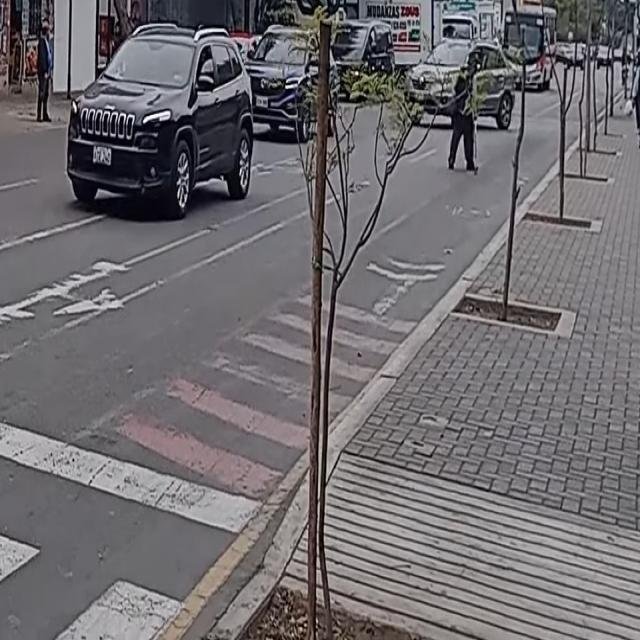bus: (331, 22, 396, 99), (503, 4, 558, 94)
car: (65, 22, 253, 218), (242, 24, 339, 144), (405, 35, 513, 134)
